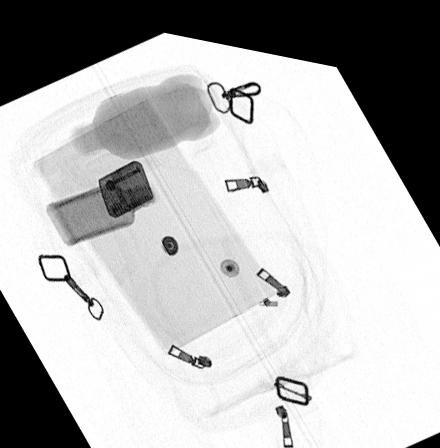Lighter: (96, 154, 154, 213)
